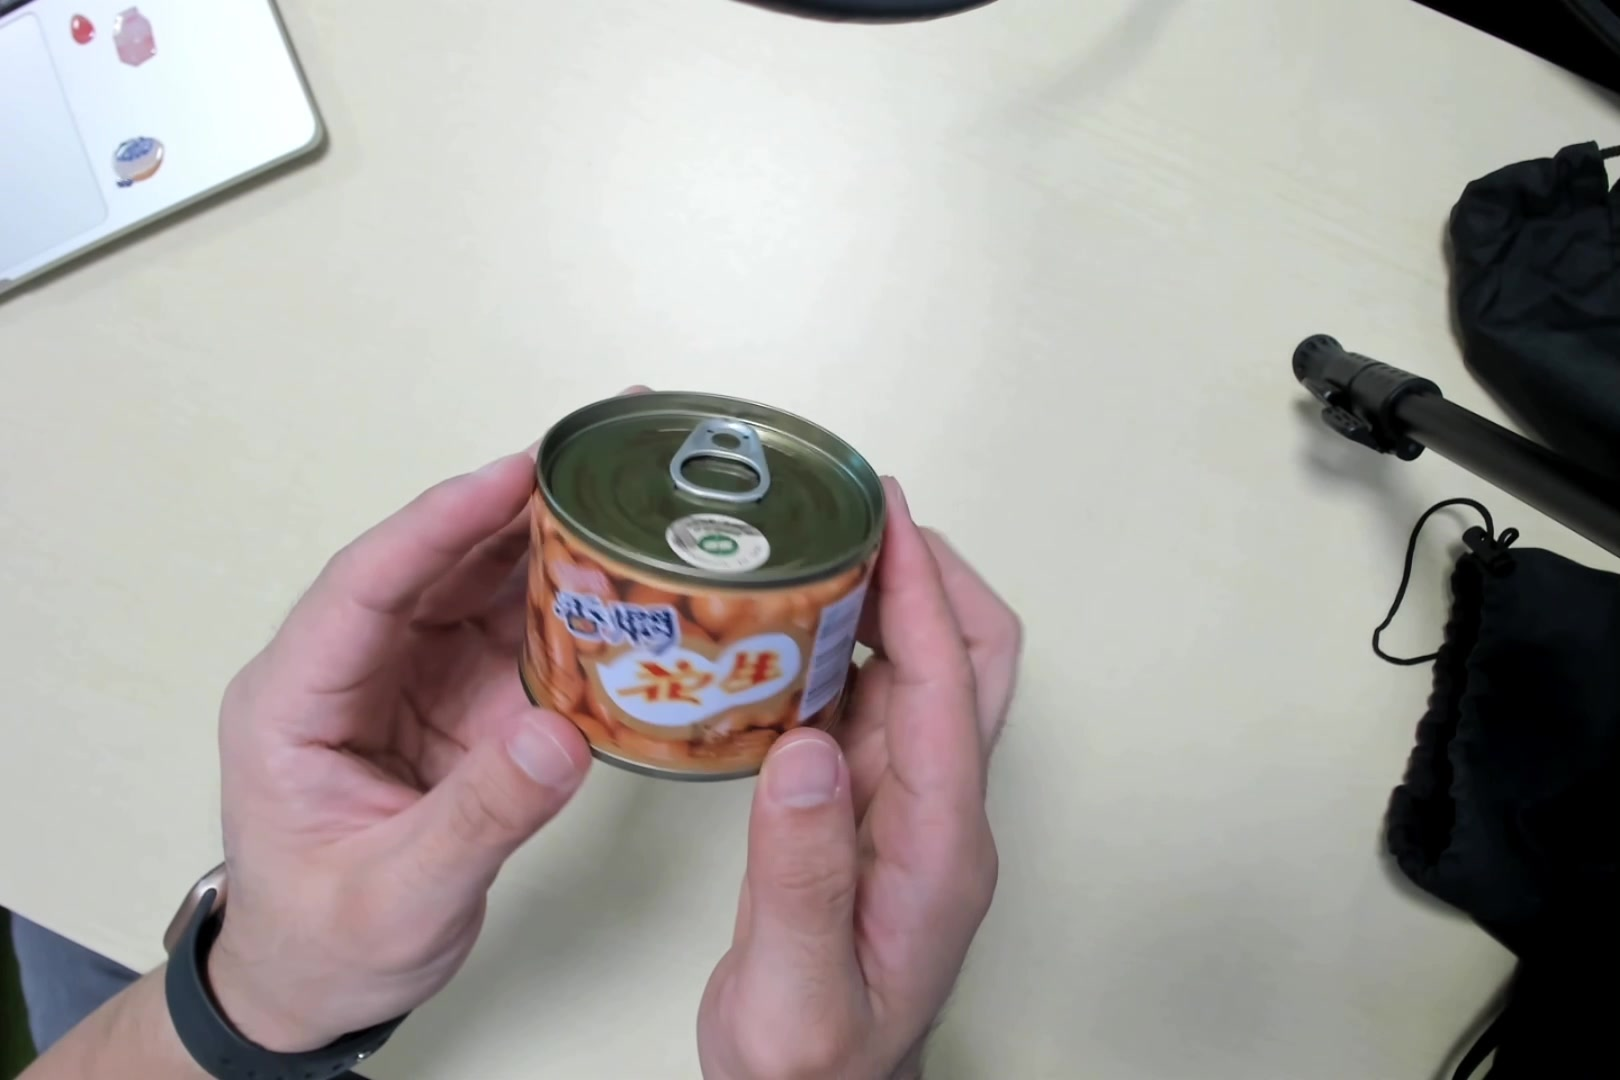CannedBraisedPeanuts_100-199g_NonHalal_NonHealthy: (506, 403, 881, 771)
